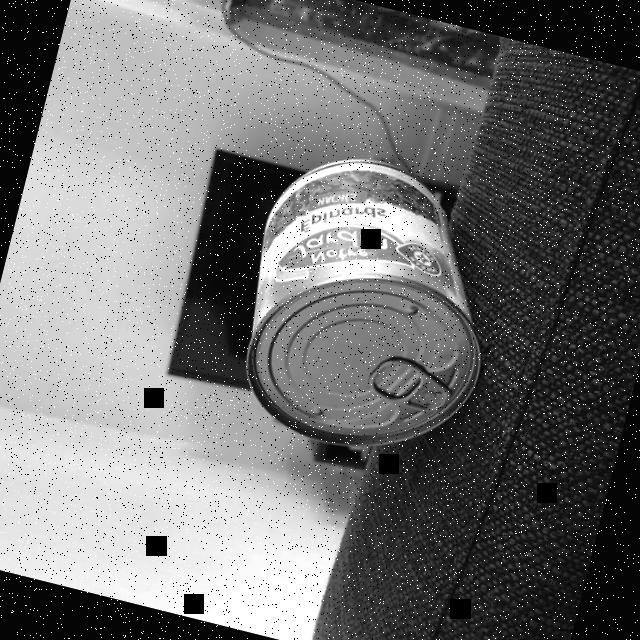can: (214, 130, 529, 478)
